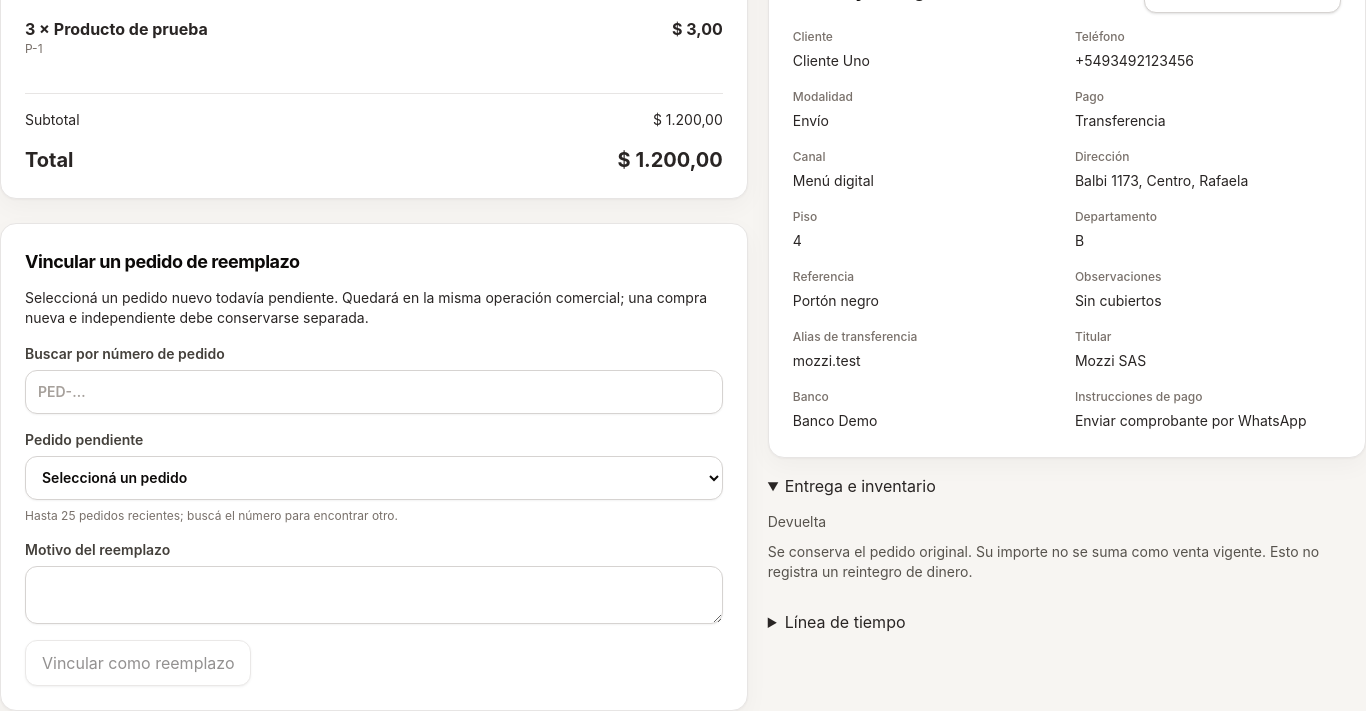
operational order details › opens the returned order and its history when the RPC preserves quantity 2
(page scrolled)
Click the heading "Línea de tiempo" at (845, 622), box [785, 612, 906, 632]
(page scrolled)
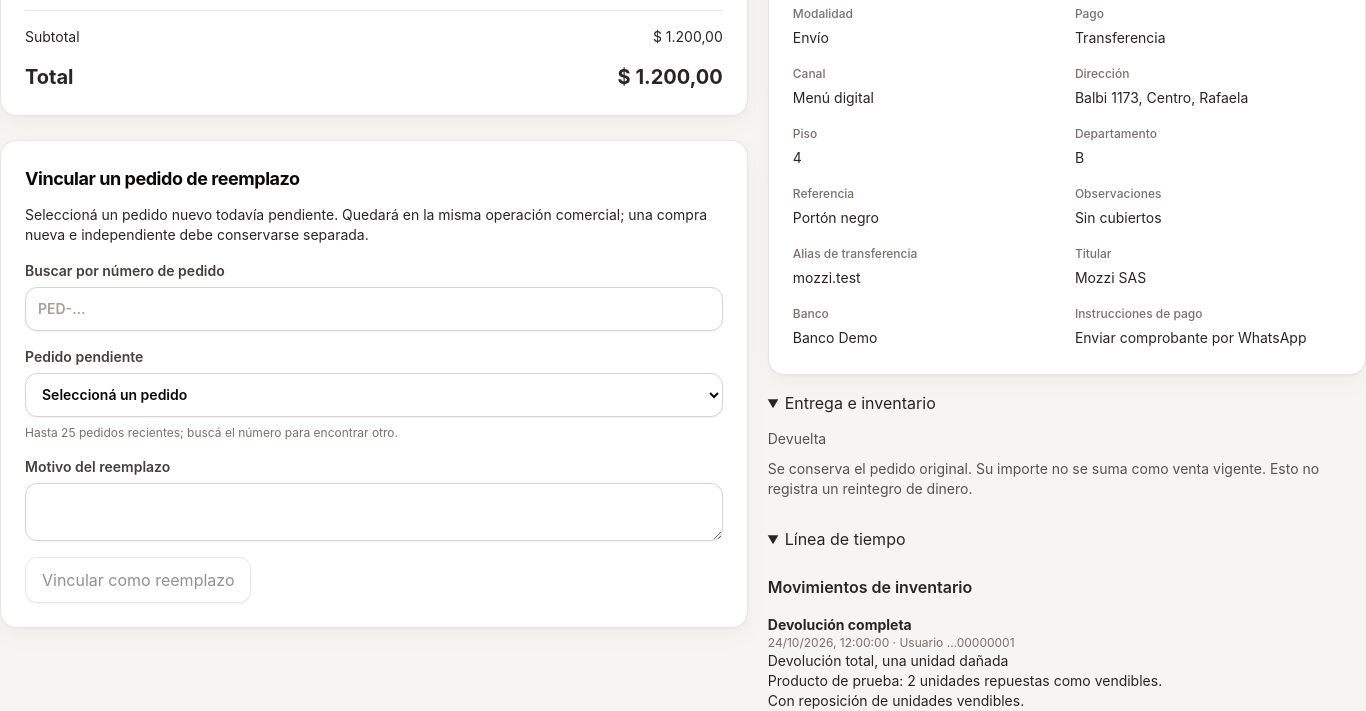
Result: the text "Producto de prueba: 2 unidades repuestas como vendibles." is shown at [768, 672, 1162, 688]
Result: the text "Devolución total, una unidad dañada" is shown at [768, 652, 1008, 668]
